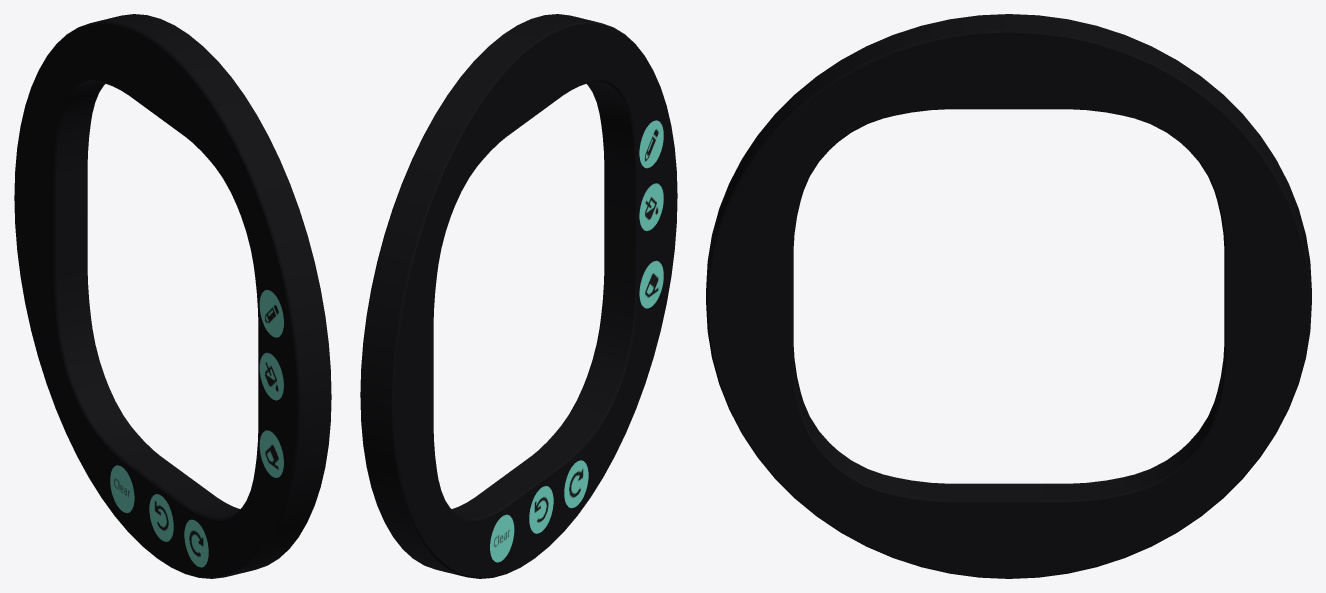
The model's file is DuckDiskMerged.glb.
The picture shows the model from 3 angles, left to right: view 1: azimuth 30°, elevation 25°; view 2: azimuth 150°, elevation 25°; view 3: azimuth 270°, elevation 25°; orthographic projection. The views are drawn at different scales.
Visible parts, largest first — view 1: DuckDIskButtons; view 2: DuckDIskButtons; view 3: DuckDIskButtons.
Part boxes in pixels (<box>): DuckDIskButtons: <box>14,14,331,578</box>; DuckDIskButtons: <box>360,14,677,578</box>; DuckDIskButtons: <box>706,14,1311,578</box>.
Bounding box in the file's own units: 0.4132 × 6.03 × 6.03.
2 materials, 1 textured.
